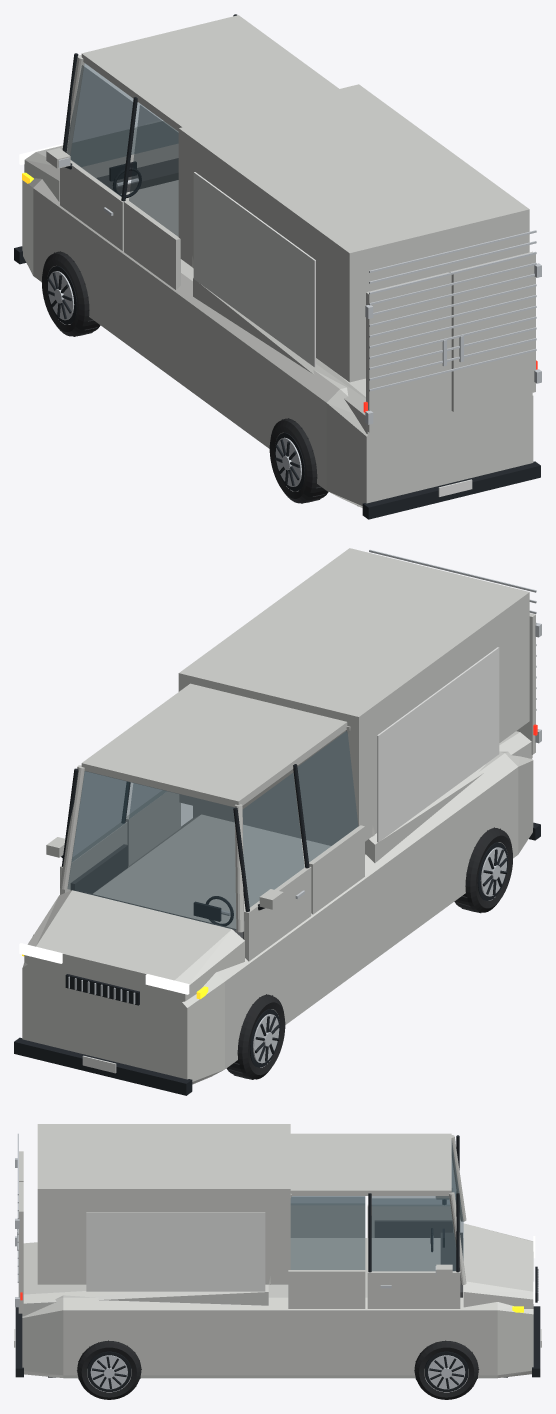
Rendered from truck_box.glb.
3 renders of one model, top to bottom at view 1: azimuth 30°, elevation 25°; view 2: azimuth 150°, elevation 25°; view 3: azimuth 270°, elevation 25°, orthographic. The views are drawn at different scales.
Visible parts, largest first — view 1: Body, Door_Rear_L, Door_Rear_R, Door_FL, Wheel_RL, Wheel_FL; view 2: Body, Door_FL, Door_FR, Wheel_RL, Wheel_FL, Door_Rear_L; view 3: Body, Door_FR, Door_FL, Wheel_RR, Wheel_FR, Door_Rear_R.
Boxes of the visible parts, box(x1,y1,x2,y2) form: Body: box(14, 15, 540, 519); Door_Rear_L: box(365, 272, 451, 432); Door_Rear_R: box(450, 251, 541, 411); Door_FL: box(46, 53, 137, 250); Wheel_RL: box(269, 418, 328, 503); Wheel_FL: box(41, 251, 100, 336); Body: box(14, 548, 540, 1095); Door_FL: box(233, 764, 311, 961); Door_FR: box(46, 768, 130, 894); Wheel_RL: box(454, 827, 512, 913); Wheel_FL: box(226, 994, 285, 1079); Door_Rear_L: box(516, 613, 541, 754); Body: box(14, 1124, 541, 1378); Door_FR: box(367, 1193, 460, 1308); Door_FL: box(367, 1135, 460, 1237); Wheel_RR: box(77, 1340, 141, 1399); Wheel_FR: box(414, 1340, 479, 1399); Door_Rear_R: box(15, 1182, 23, 1313).
Size of what is drawn, in the model's own units: 2.95 by 3.51 by 8.06.
